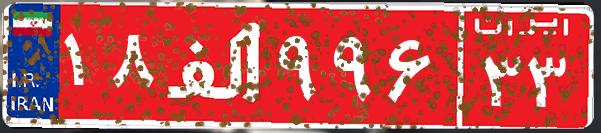1: (57, 26, 110, 107)
3: (475, 38, 525, 113), (525, 38, 570, 115)
6: (385, 28, 445, 110)
8: (110, 28, 158, 105)
9: (273, 28, 330, 110), (330, 28, 385, 110)
الف: (158, 15, 273, 115)
